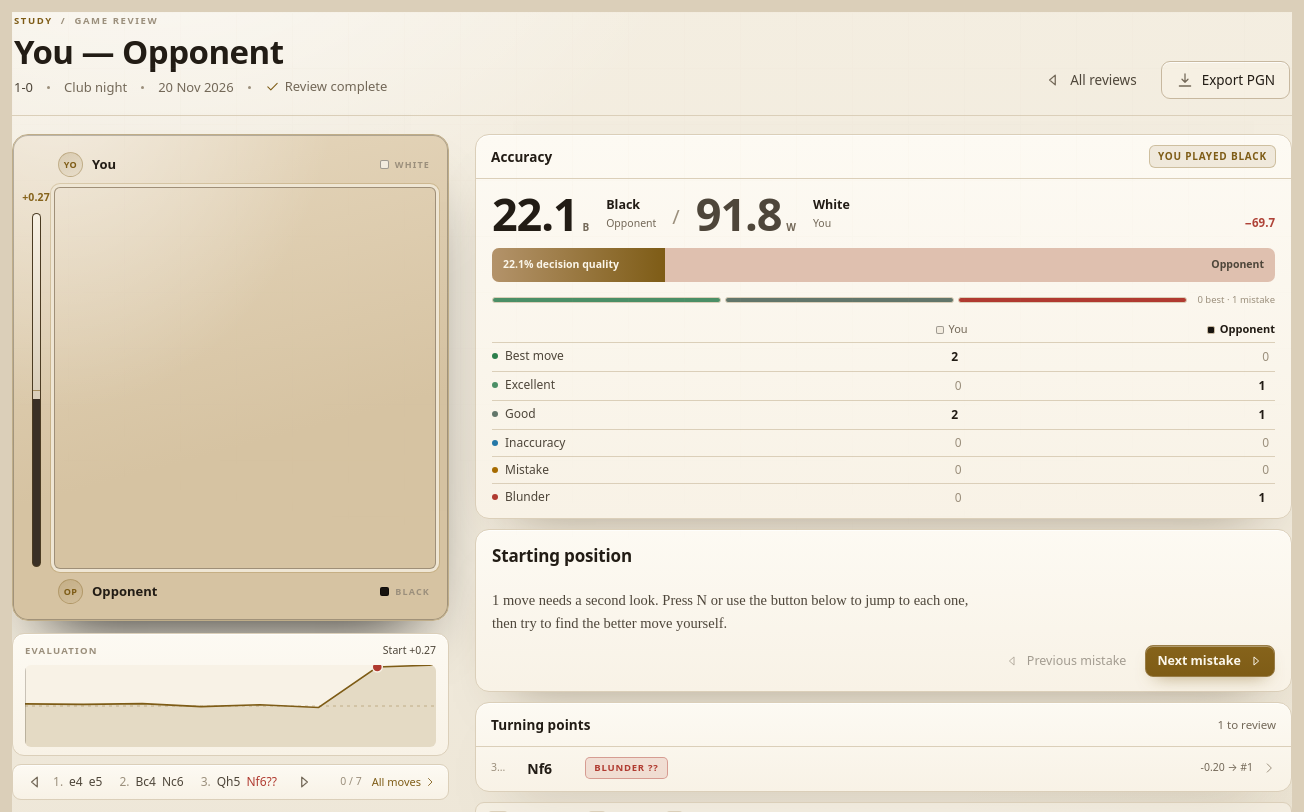
Test: ReviewPage, finished review › the count buttons and the move list jump to moves
Check: the heading "You — Opponent" is shown, box x1=14 y1=29 x2=284 y2=74
Step 1. Click the 3rd button "1" → (1262, 498), box x1=1249 y1=488 x2=1275 y2=508
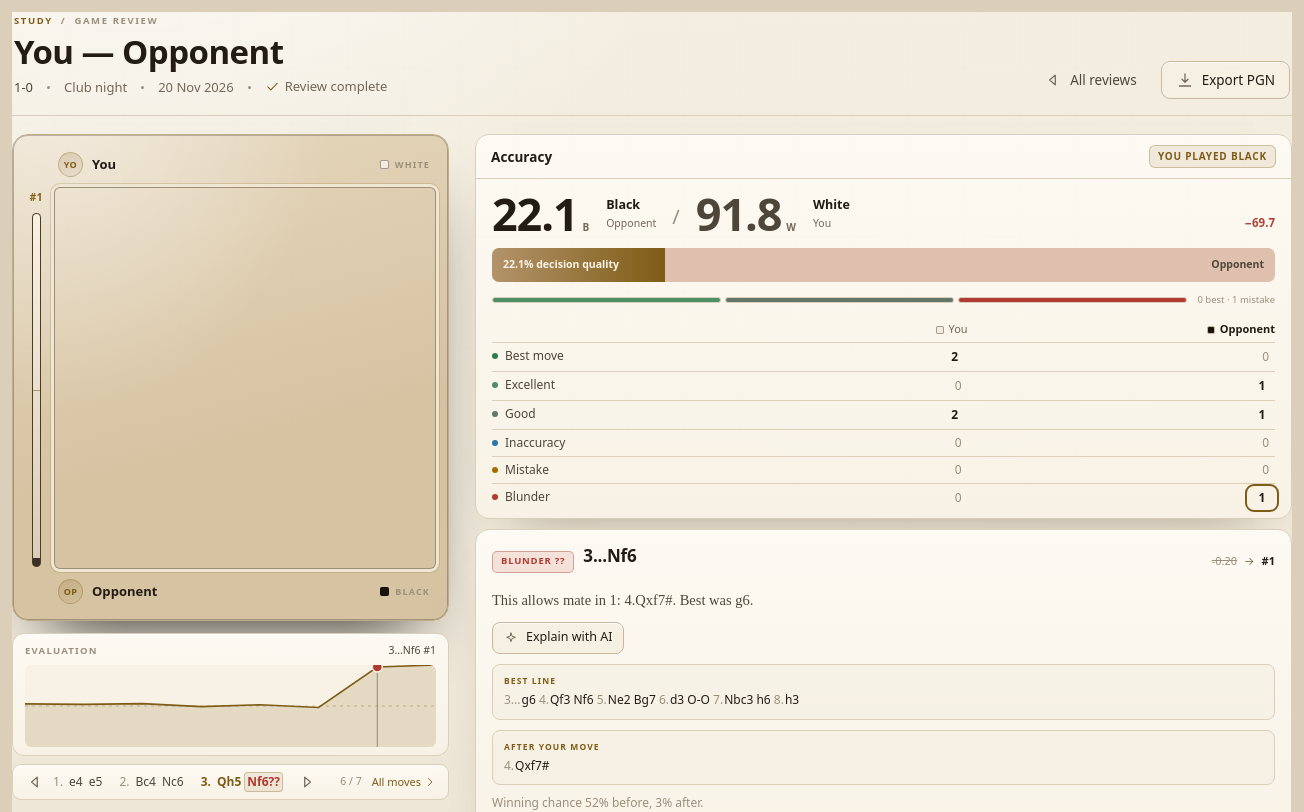
Step 2. Click the button "Bc4" → (146, 782), box x1=132 y1=772 x2=159 y2=792
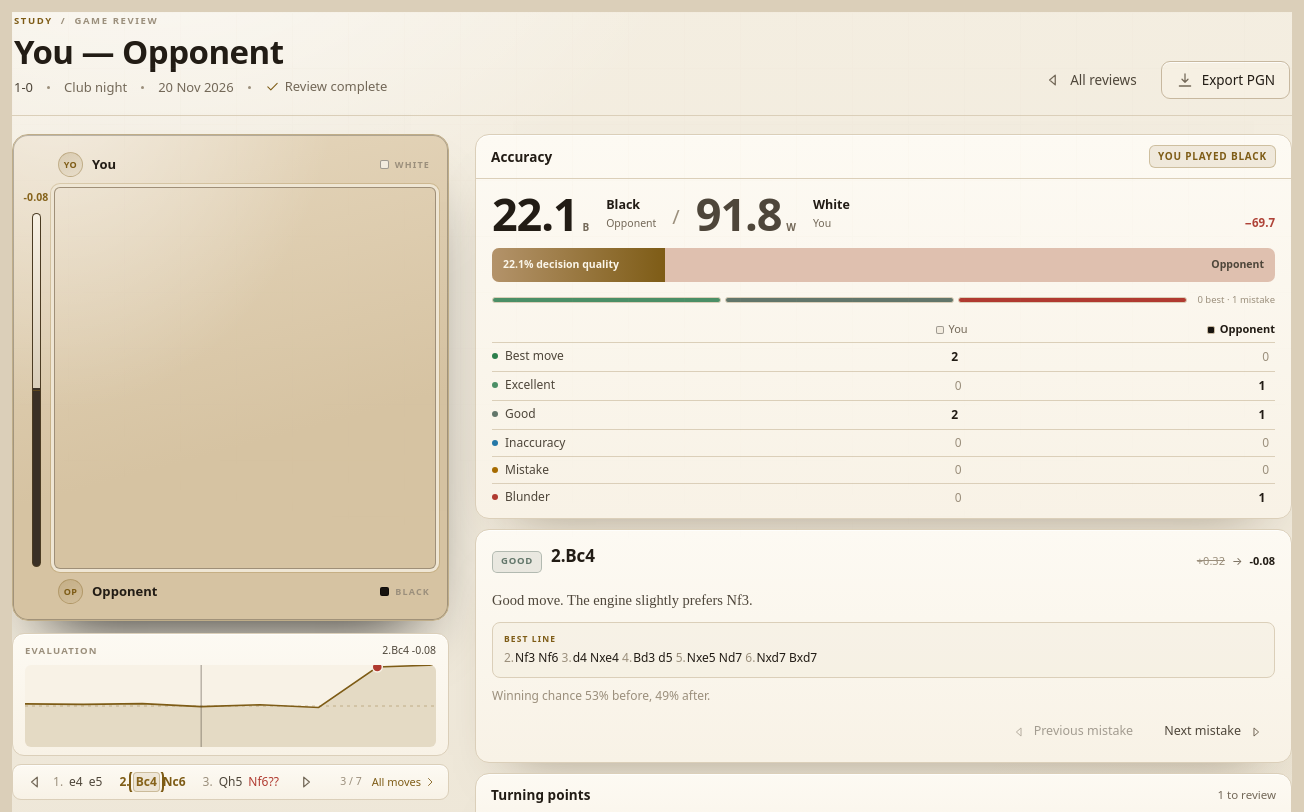
Check: the element with class "move-card" shows "2.Bc4", box x1=475 y1=529 x2=1292 y2=763
